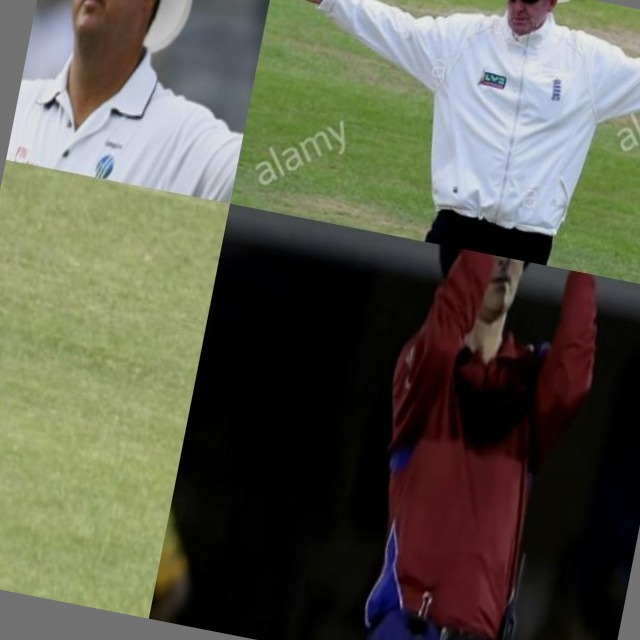Out: (0, 160, 190, 611)
Six: (325, 238, 618, 640)
Wide: (230, 0, 640, 293), (6, 0, 282, 204)
